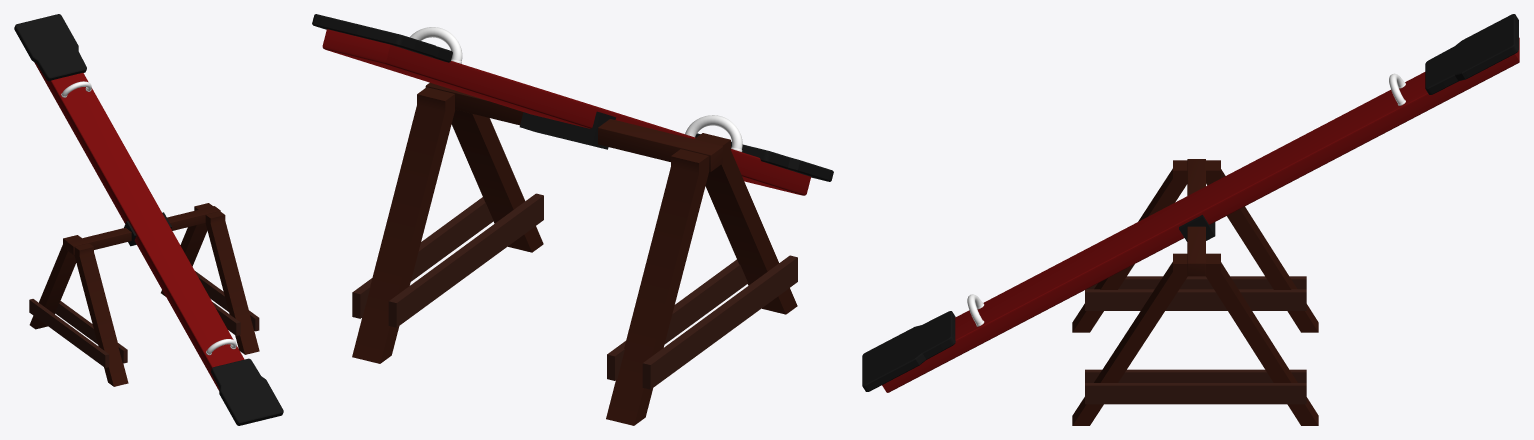
Rendered from Seesaw_Red.FBX.
3 views of the same model, side by side, from view 1: azimuth 30°, elevation 25°; view 2: azimuth 150°, elevation 25°; view 3: azimuth 270°, elevation 25° (orthographic). The views are drawn at different scales.
Parts seen in each view (by area): view 1: Seat004, Line007, Line008, Box066, Box067, Box071, Box070, Box068, Box072, Box073; view 2: Line007, Line008, Seat004, Box070, Box073, Box071, Box068, Box072, Box067, Box069, Box066, Arc004 (+1 smaller); view 3: Seat004, Line008, Line007, Box072, Box068, Box066, Box067, Box073, Box070, Box071.
Part boxes in pixels (x1,y1,x2,y2): Seat004: (34,62,244,390); Line007: (29,235,128,386); Line008: (161,203,259,354); Box066: (211,358,283,425); Box067: (14,14,86,81); Box071: (67,206,220,254); Box070: (29,299,109,367); Box068: (55,301,127,363); Box072: (195,271,259,331); Box073: (212,302,240,335); Line007: (606,133,797,425); Line008: (352,87,543,363); Seat004: (322,29,810,195); Box070: (642,255,797,389); Box073: (388,193,543,327); Box071: (425,82,722,171); Box068: (607,259,748,380); Box072: (352,197,493,318); Box067: (312,14,452,62); Box069: (519,111,615,149); Box066: (695,133,833,181); Arc004: (685,115,742,151); Seat004: (882,37,1519,392); Line008: (1072,253,1318,425); Line007: (1072,160,1318,332); Box072: (1085,383,1306,404); Box068: (1085,289,1306,310); Box066: (862,311,955,391); Box067: (1425,14,1518,94); Box073: (1085,369,1306,382); Box070: (1087,276,1306,289); Box071: (1187,159,1205,276).
Bounding box in the file's own units: 9.42 × 23.91 × 14.13.
